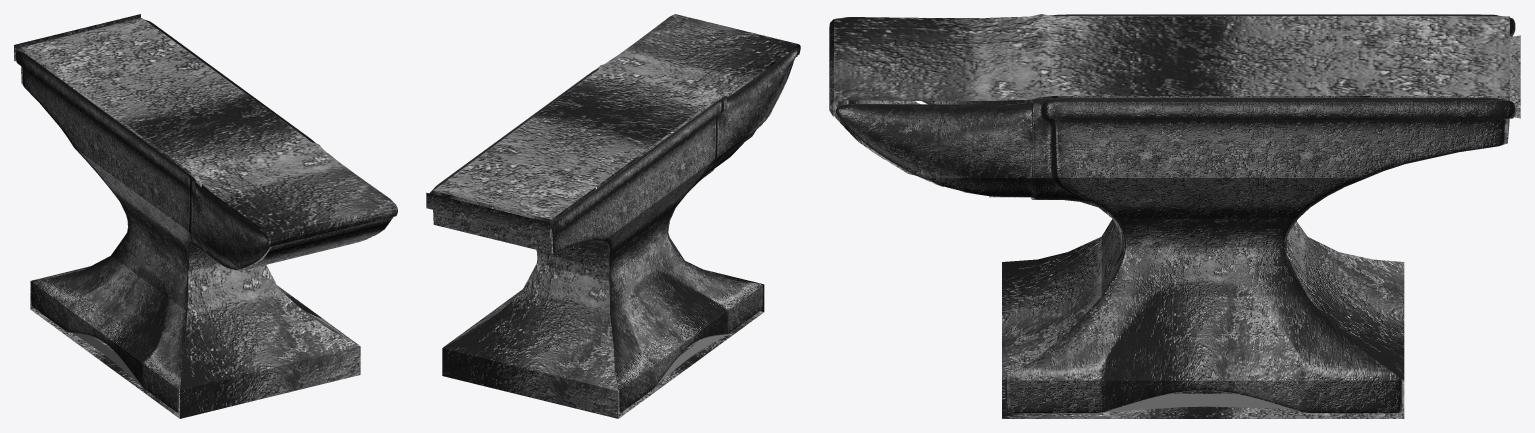
The model's file is anvil.fbx.
3 views of the same model, side by side, from view 1: azimuth 30°, elevation 25°; view 2: azimuth 150°, elevation 25°; view 3: azimuth 270°, elevation 25° (orthographic). The views are drawn at different scales.
Visible parts, largest first — view 1: Cube; view 2: Cube; view 3: Cube.
Part boxes in pixels (x1=…): Cube: x1=14, y1=14, x2=397, y2=418; Cube: x1=426, y1=14, x2=800, y2=418; Cube: x1=829, y1=14, x2=1520, y2=418.
Bounding box in the file's own units: 200 × 239 × 493.
